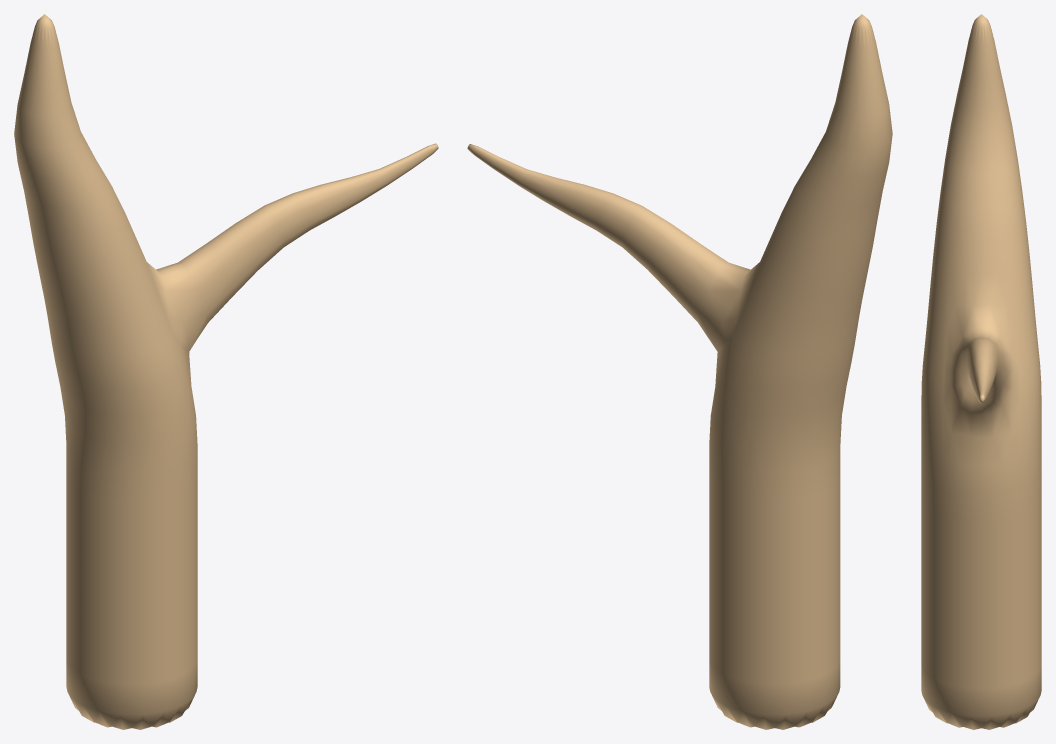
Rendered from BirchTreeUBush.FBX.
3 views of the same model, side by side, from view 1: azimuth 30°, elevation 25°; view 2: azimuth 150°, elevation 25°; view 3: azimuth 270°, elevation 25° (orthographic). The views are drawn at different scales.
Visible parts, largest first — view 1: Tre; view 2: Tre; view 3: Tre.
Part boxes in pixels (<box>): Tre: <box>14,14,438,729</box>; Tre: <box>467,14,892,729</box>; Tre: <box>921,14,1041,729</box>.
Bounding box in the file's own units: 1.46 × 2.4 × 0.3939.
